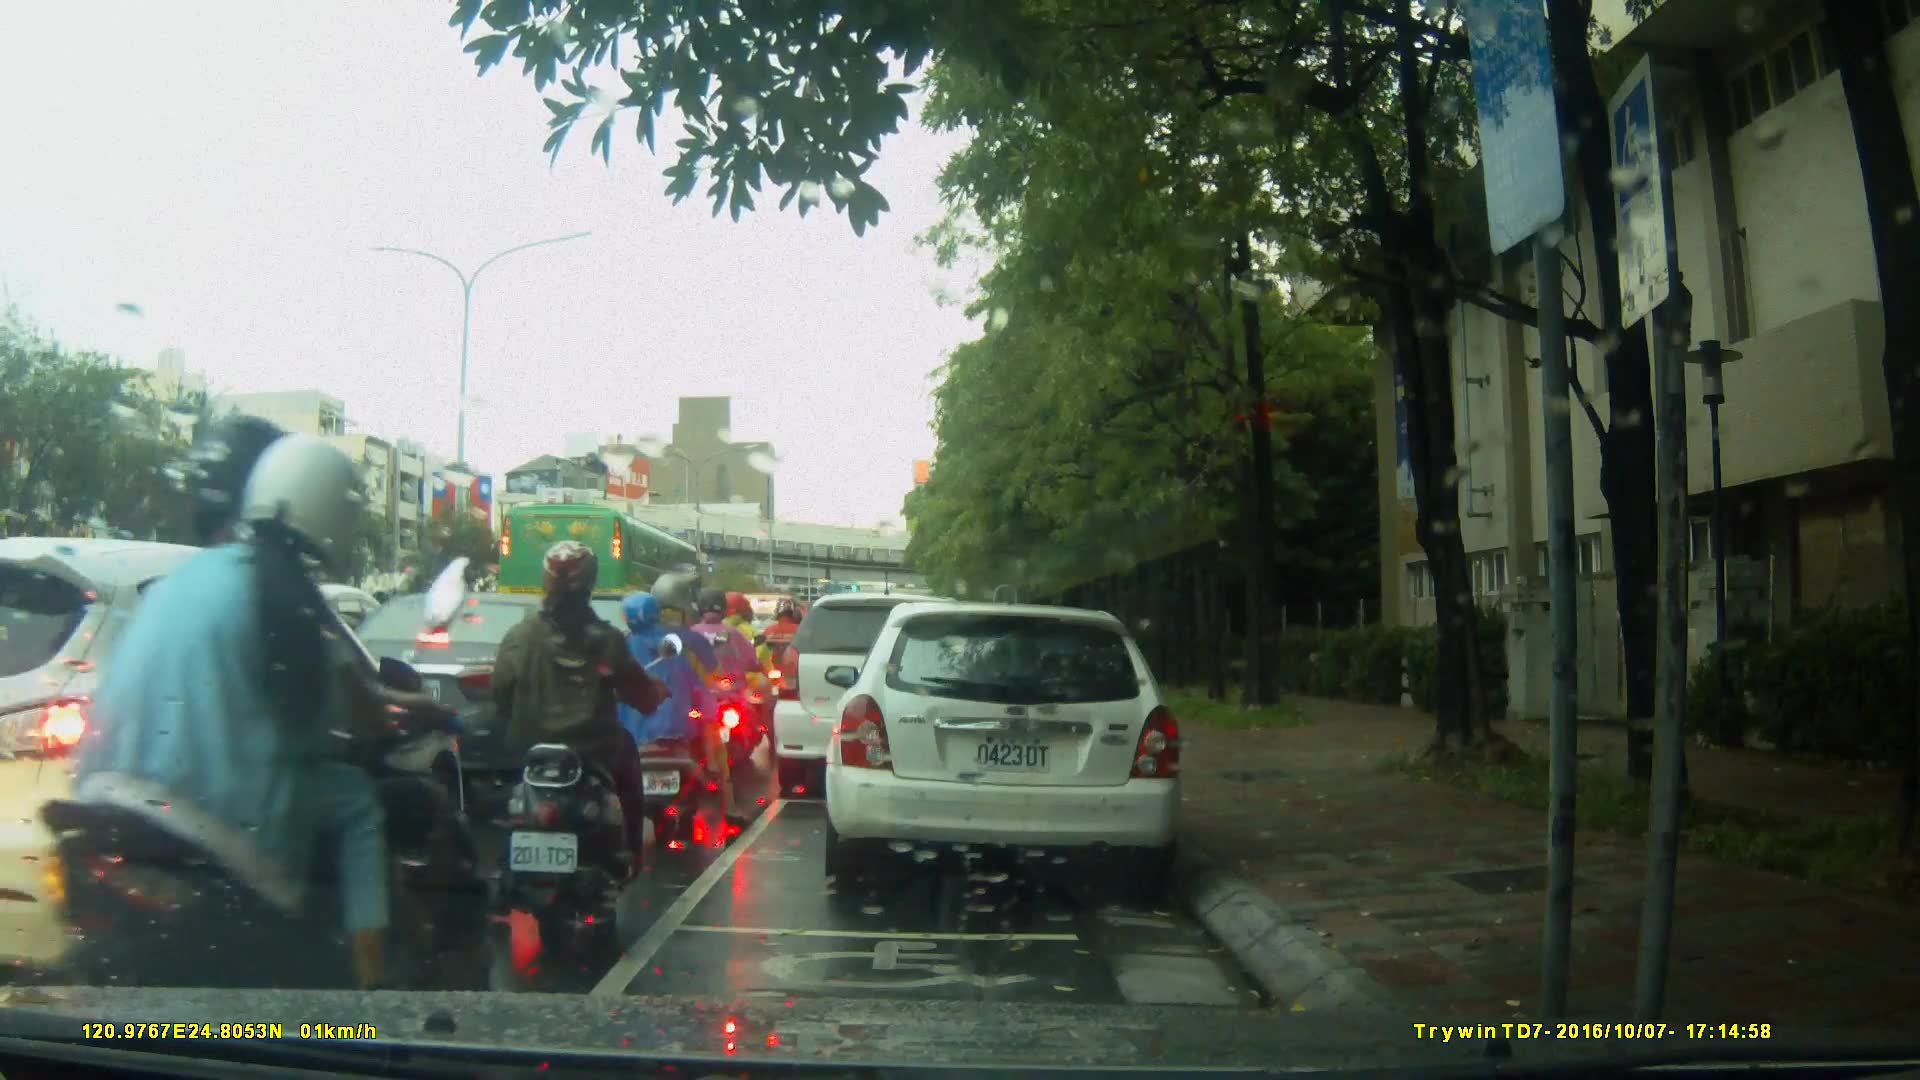rider: (41, 411, 498, 1049), (486, 536, 676, 940), (618, 579, 716, 829), (682, 591, 754, 776), (720, 594, 788, 766), (765, 596, 811, 734)
vehicle: (4, 535, 467, 988), (831, 592, 1196, 897), (312, 589, 629, 776), (771, 590, 999, 804), (501, 503, 709, 636)
